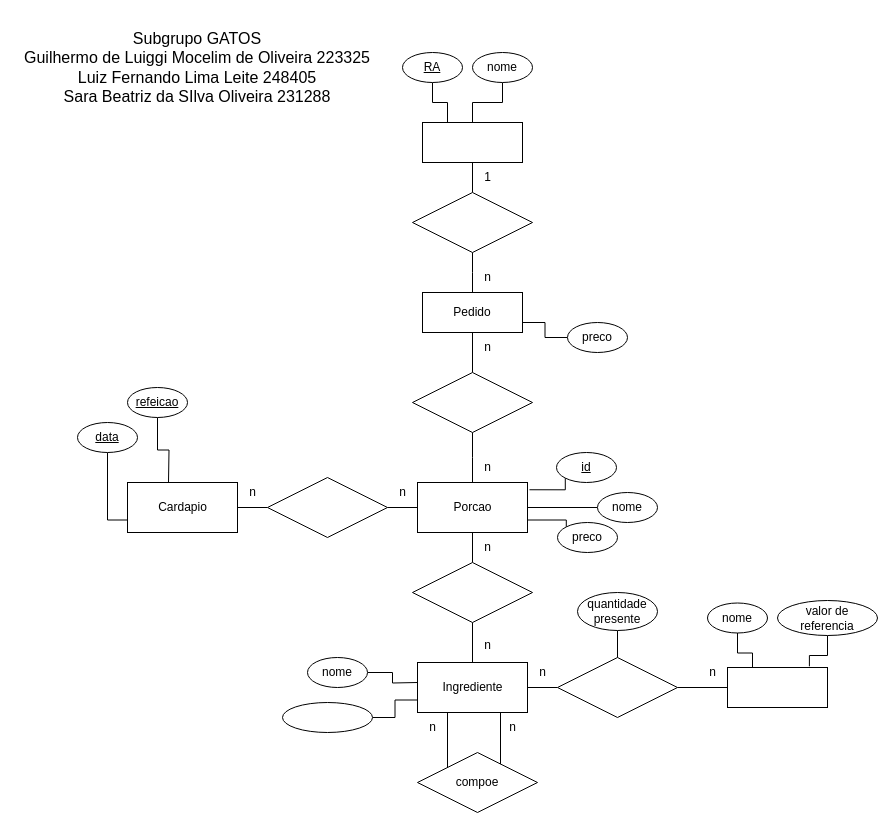
This 895x830 diagram has some shape labels left out. The centre of each missing label's shape, as x and y in pixels:
Aluno: the point at 472,142
codigo: the point at 327,717
contem: the point at 617,687
inclui: the point at 327,507
leva: the point at 472,592
Nutriente: the point at 777,687
pega: the point at 472,222
possui: the point at 472,402
